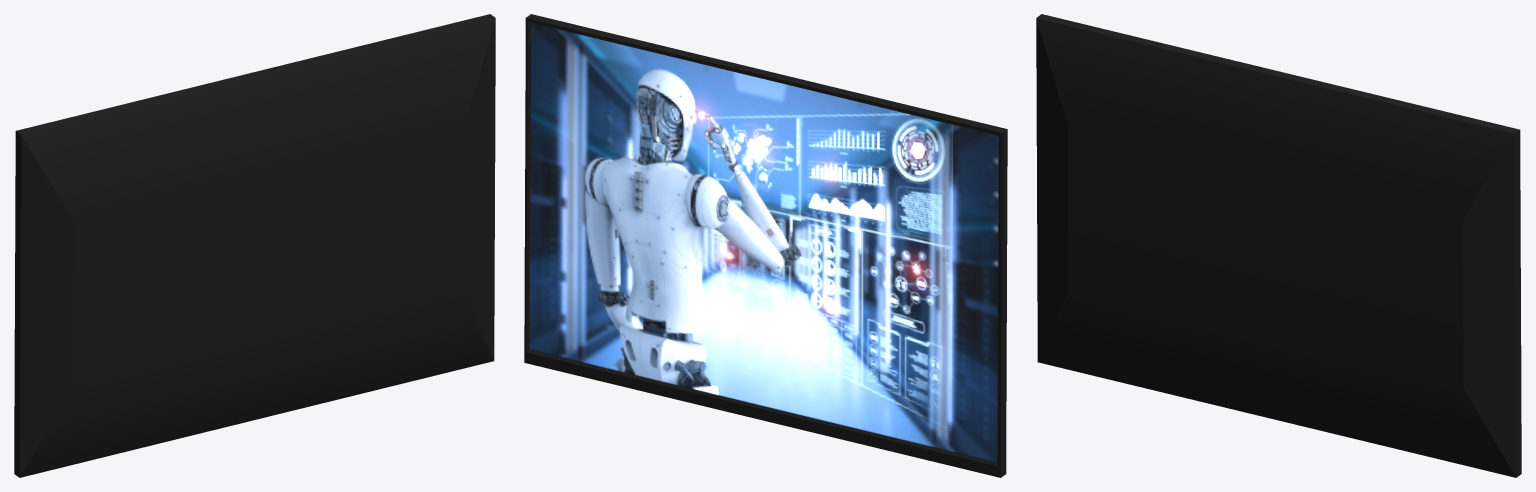
The model's file is DisplayScreenE.fbx.
The picture shows the model from 3 angles, left to right: view 1: azimuth 30°, elevation 25°; view 2: azimuth 150°, elevation 25°; view 3: azimuth 330°, elevation 25°; orthographic projection.
Parts seen in each view (by area): view 1: DisplayScreenE; view 2: DisplayScreenE; view 3: DisplayScreenE.
Boxes of the visible parts, box(x1,y1,x2,y2) form: DisplayScreenE: box(14, 14, 495, 477); DisplayScreenE: box(524, 14, 1007, 477); DisplayScreenE: box(1036, 14, 1521, 477).
Size of the model in its own units: 182 by 126 by 12.13.
